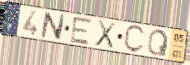4: (21, 9, 39, 38)
C: (122, 24, 147, 55)
E: (69, 15, 94, 47)
N: (39, 10, 66, 42)
Q: (146, 29, 170, 58)
X: (94, 19, 118, 50)
